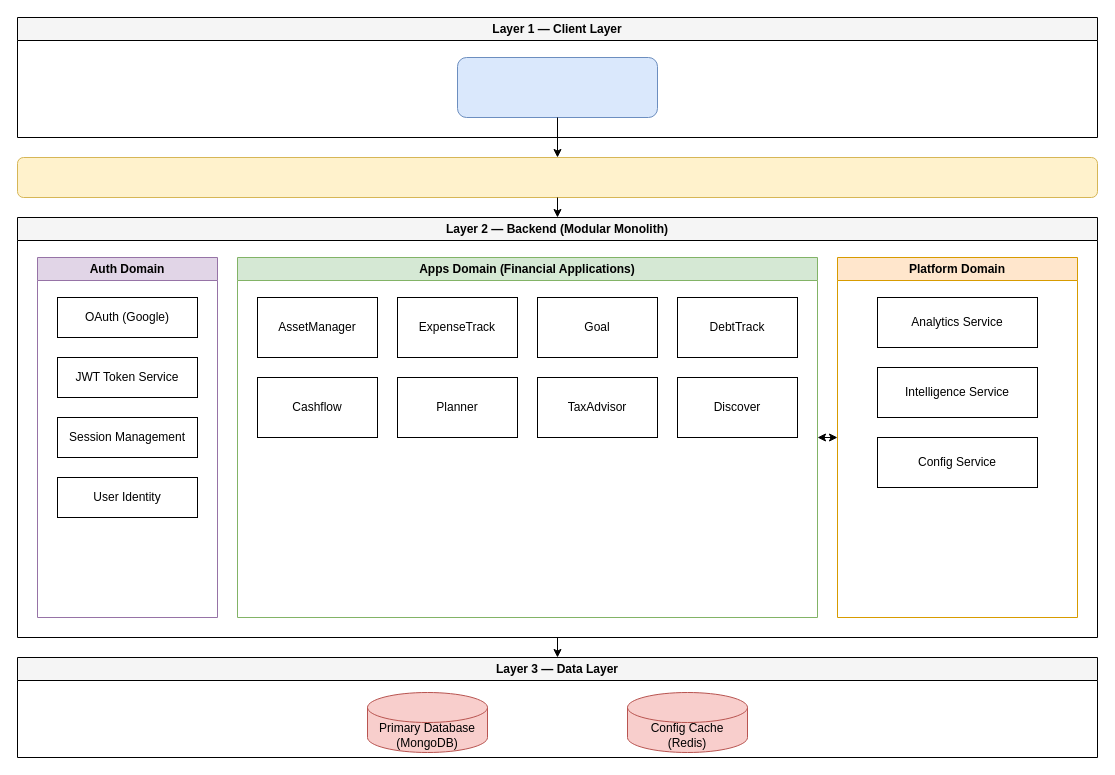
Image size: 1115x775. Some labels were removed from this diagram. The shapes that lost their labels are listed below. From the top down, each one's centre as x and y in pixels, then its label:
At point (557, 87): "Web Application (React / Next.js)".
At point (557, 177): "API Layer (REST)".
